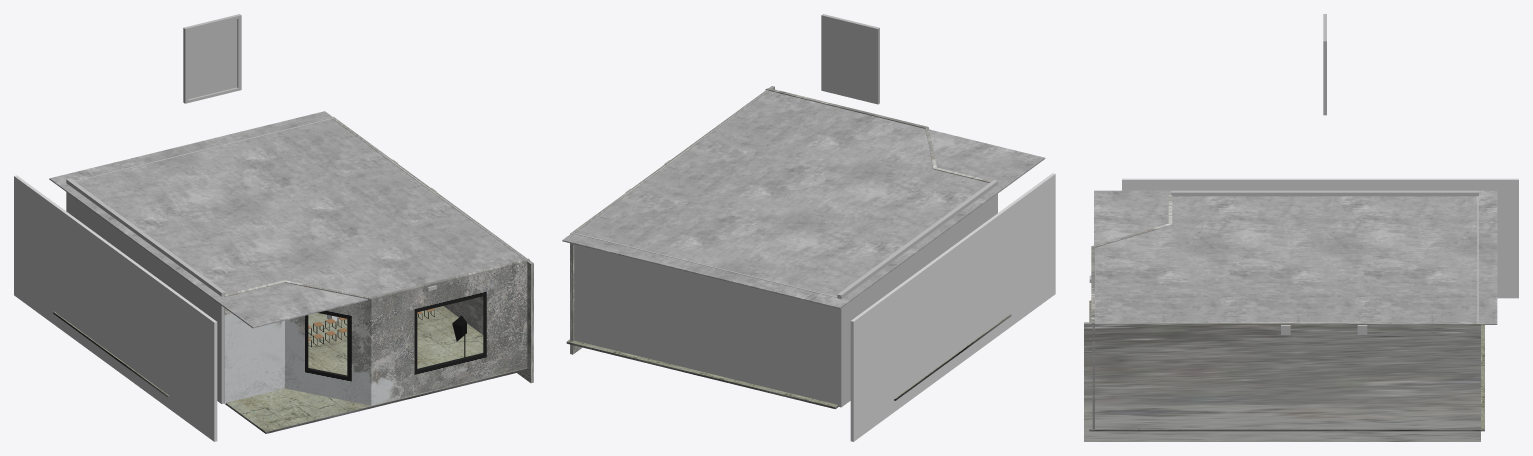
The model's file is junyarunway.fbx.
The picture shows the model from 3 angles, left to right: view 1: azimuth 30°, elevation 25°; view 2: azimuth 150°, elevation 25°; view 3: azimuth 270°, elevation 25°; orthographic projection.
Parts seen in each view (by area): view 1: Plane, Cube.006, Plane.001, JekRunway, JekRunway.001, Cube.004, Cube.007; view 2: Plane, Plane.003, Cube.006, JekRunway.001, Cube.004, JekRunway, Cube.007, Plane.001; view 3: Plane, Cube.007, Cube.006, JekRunway.001, JekRunway, Plane.001.
Boxes of the visible parts, x1=… form: Plane: x1=49, y1=111, x2=523, y2=328; Cube.006: x1=14, y1=175, x2=217, y2=441; Plane.001: x1=224, y1=258, x2=529, y2=405; JekRunway: x1=53, y1=306, x2=528, y2=433; JekRunway.001: x1=66, y1=178, x2=225, y2=403; Cube.004: x1=183, y1=14, x2=241, y2=103; Cube.007: x1=330, y1=116, x2=533, y2=383; Plane: x1=562, y1=91, x2=1045, y2=308; Plane.003: x1=574, y1=233, x2=837, y2=404; Cube.006: x1=850, y1=173, x2=1055, y2=441; JekRunway.001: x1=837, y1=180, x2=997, y2=407; Cube.004: x1=821, y1=14, x2=879, y2=104; JekRunway: x1=566, y1=314, x2=1011, y2=409; Cube.007: x1=570, y1=86, x2=774, y2=354; Plane.001: x1=765, y1=88, x2=991, y2=182; Plane: x1=1094, y1=190, x2=1497, y2=324; Cube.007: x1=1084, y1=322, x2=1480, y2=441; Cube.006: x1=1122, y1=178, x2=1518, y2=298; JekRunway.001: x1=1171, y1=190, x2=1478, y2=196; JekRunway: x1=1089, y1=300, x2=1484, y2=431; Plane.001: x1=1091, y1=194, x2=1172, y2=429.
Bounding box in the file's own units: 2590 × 2614 × 3241.
